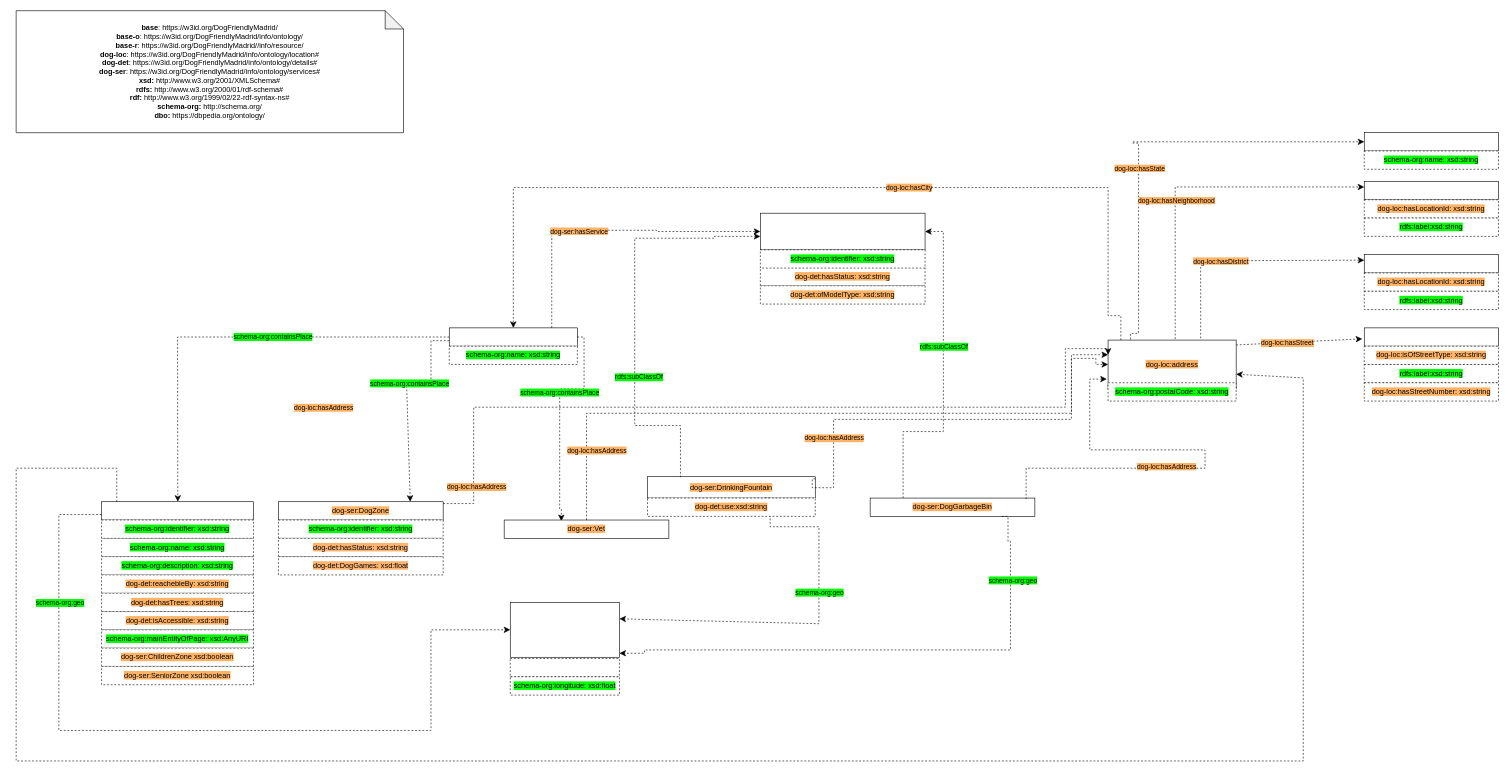
This 1509x778 diagram has some shape labels left out. Here are the shapes that lost their labels. From the top down, the centre of each, then its label:
the point at 1431,141: schema-org:State
the point at 1431,190: dog-loc:Neighborhood
the point at 842,231: doc-ser:Services
the point at 1431,263: dog-loc:District
the point at 513,336: schema-org:City
the point at 1431,336: dog-loc:thoroughfare
the point at 177,510: schema-org:Park
the point at 564,629: schema-org:GeoCoordinates
the point at 564,667: schema-org:latitude: xsd:float
